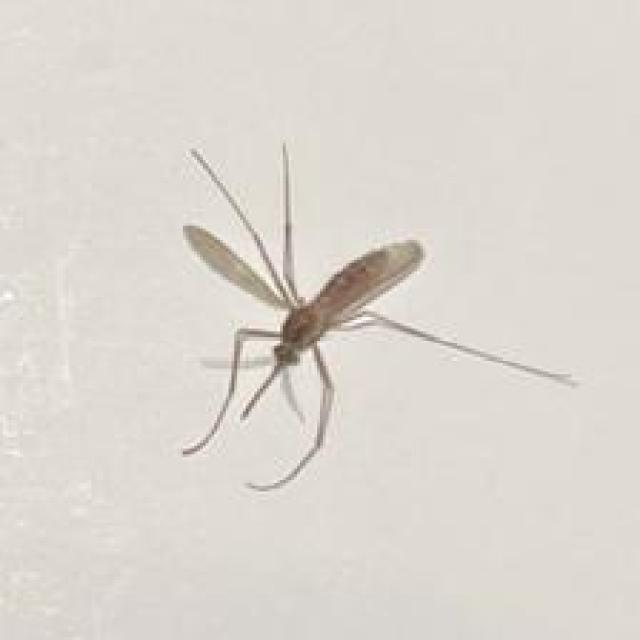Culex: (178, 140, 578, 494)
